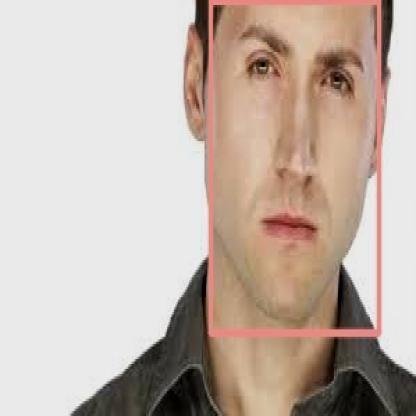without_mask: (210, 0, 379, 332)
